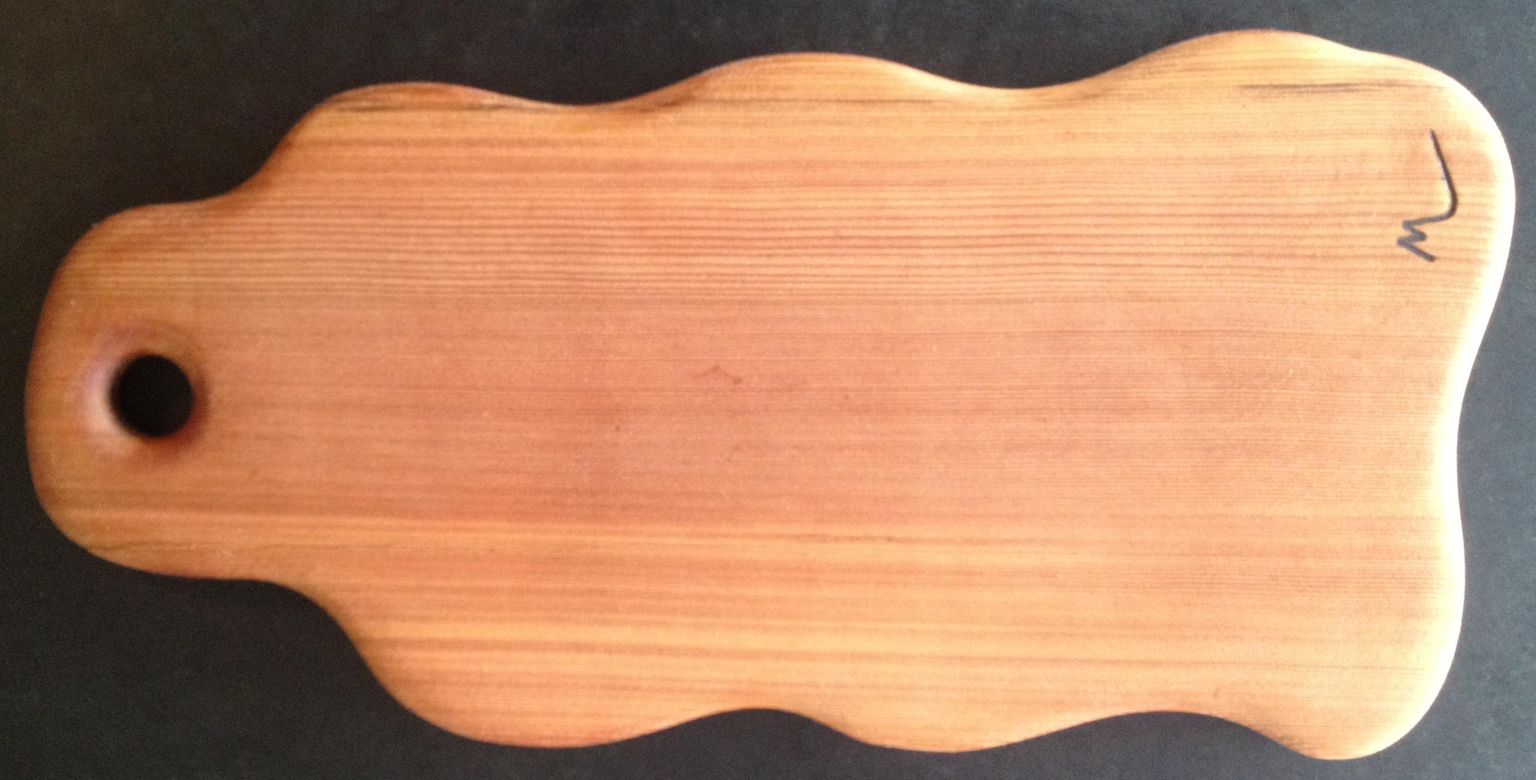gloved_hand: (15, 13, 1522, 761)
